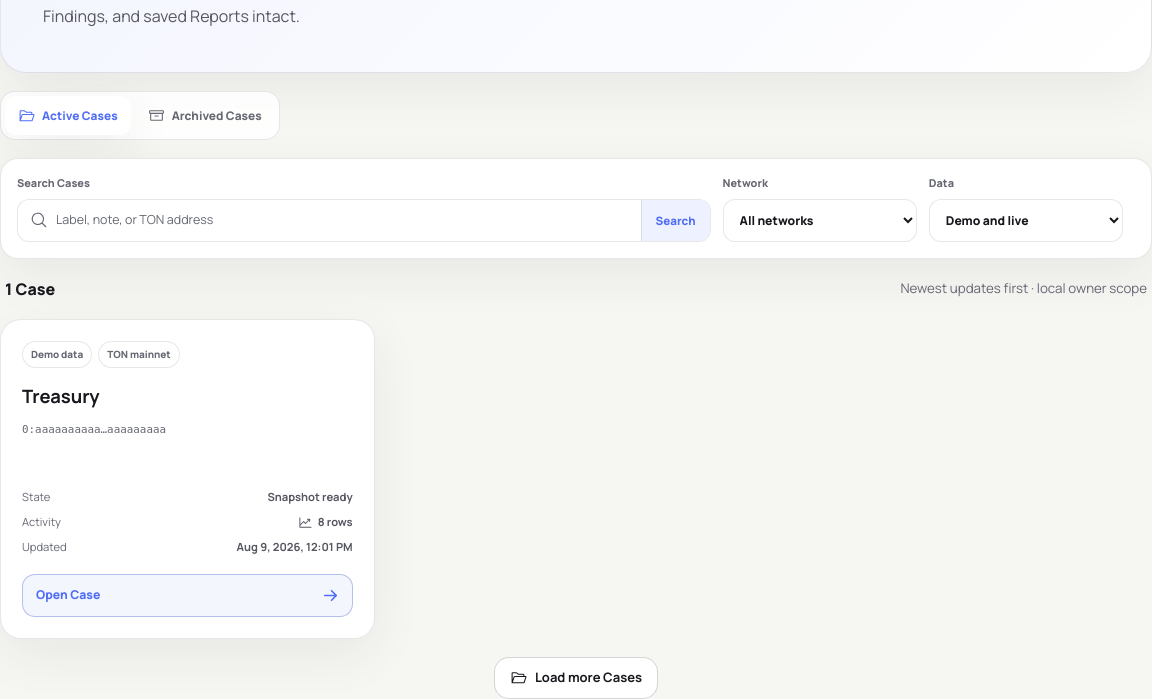
GramCaseLibrary › appends a signed continuation and aborts the active request on unmount
(page scrolled)
expect the heading "Treasury" is shown: met, box [22,383,100,409]
Click the button "Load more Cases": click(576, 678) [494,657,658,698]
(page scrolled)
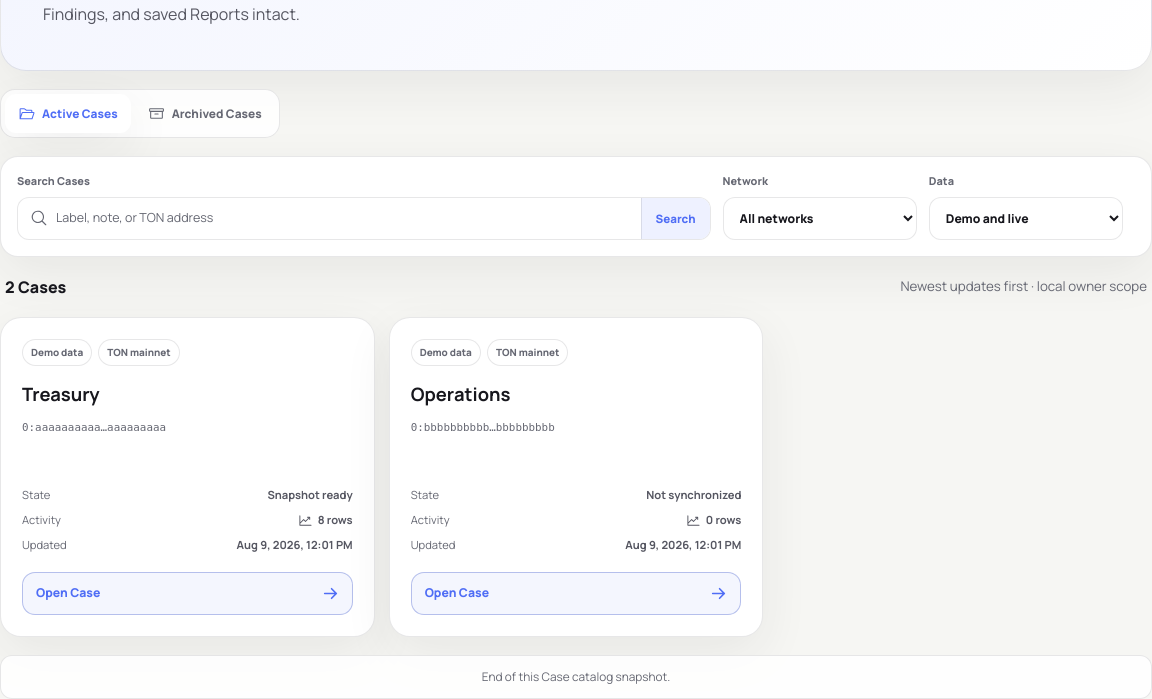
expect the heading "Operations" is shown: met, box [411,381,510,407]
expect the text "2 Cases" is shown: met, box [5,275,66,299]
expect the text "End of this Case catalog snapshot." is shown: met, box [0,655,1151,698]
